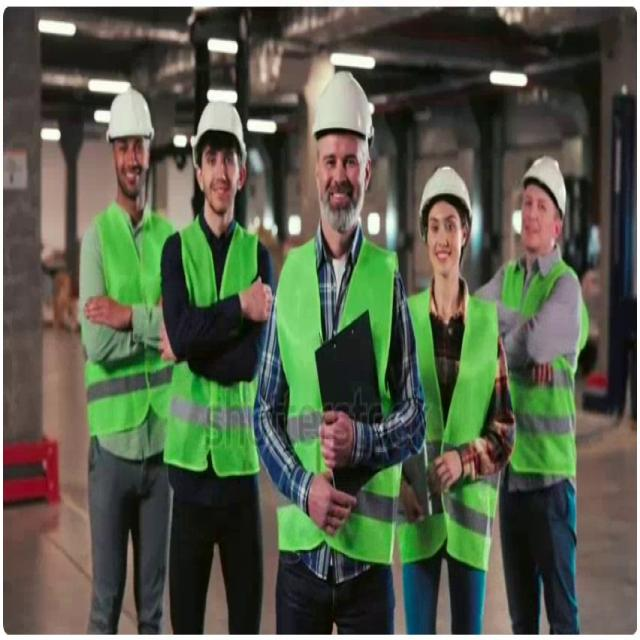not-gloved: (306, 472, 357, 536), (318, 408, 354, 471), (82, 292, 132, 330), (427, 448, 462, 495), (239, 275, 272, 324), (398, 479, 422, 522)
